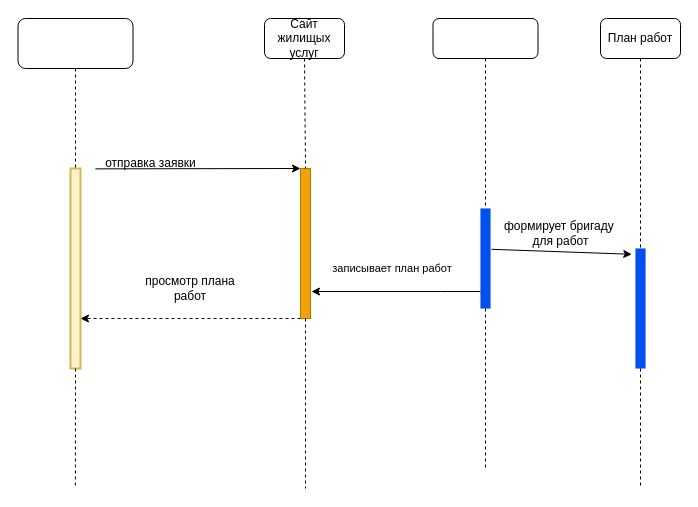
Some shapes in this 698 by 507 pixel diagram are drawn without their labels. The centre of each missing label's shape, as x and y in pixels:
"Диспетчер" belongs at (485,38).
"квартиросъемщик" belongs at (75,43).
